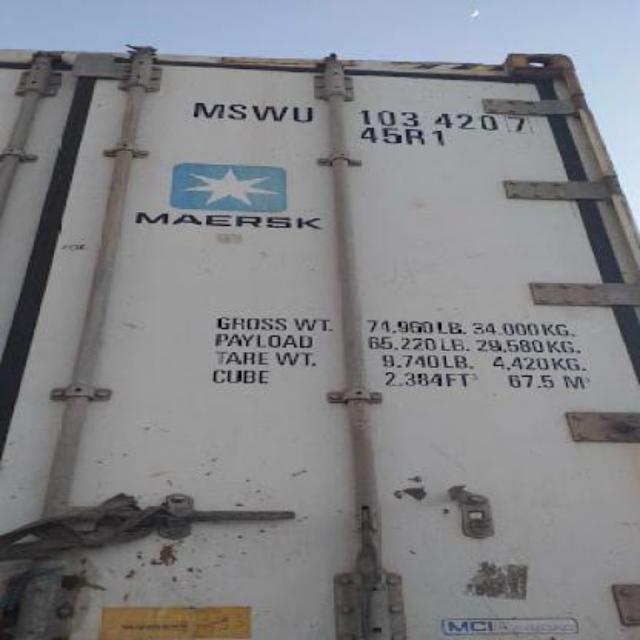0: (478, 101, 502, 133), (374, 99, 400, 128)
1: (354, 102, 374, 126)
2: (456, 104, 478, 132)
3: (398, 104, 422, 128)
4: (428, 99, 456, 131)
7: (502, 112, 538, 136)
M: (192, 93, 224, 119)
S: (224, 95, 248, 124)
U: (292, 98, 316, 126)
W: (250, 92, 290, 125)
